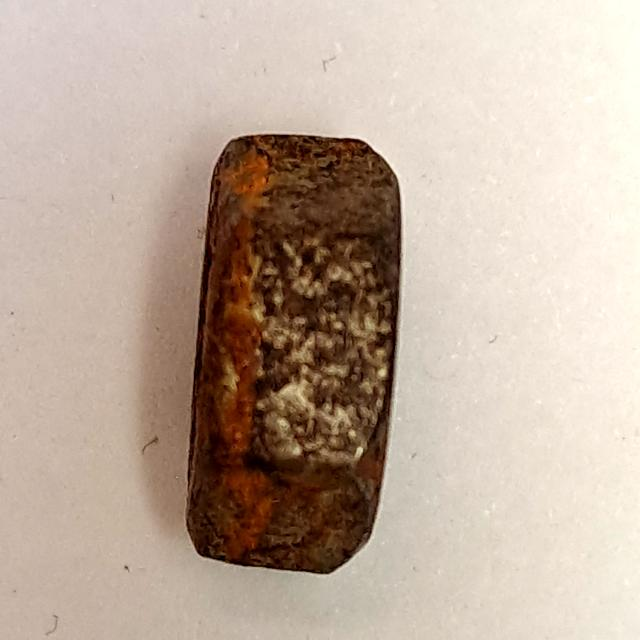Side_Rust: (162, 124, 438, 589)
